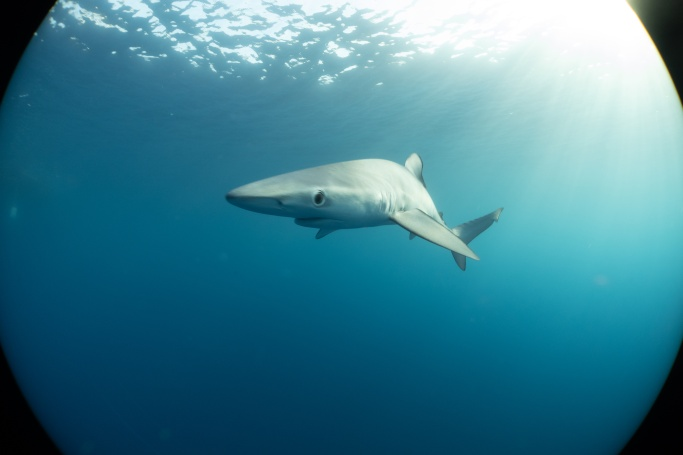Azul: (200, 140, 526, 296)
